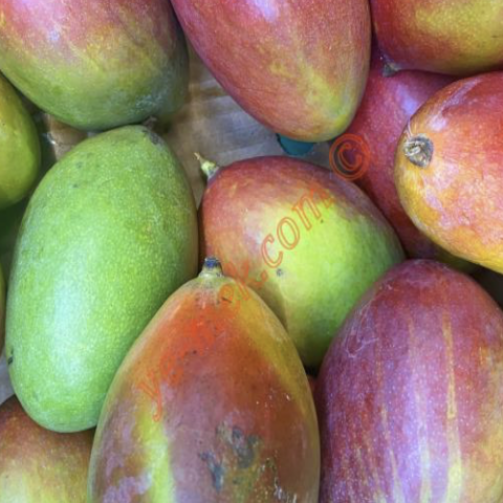mango: (1, 89, 202, 449), (76, 252, 335, 502), (180, 112, 409, 374), (300, 211, 503, 502)
